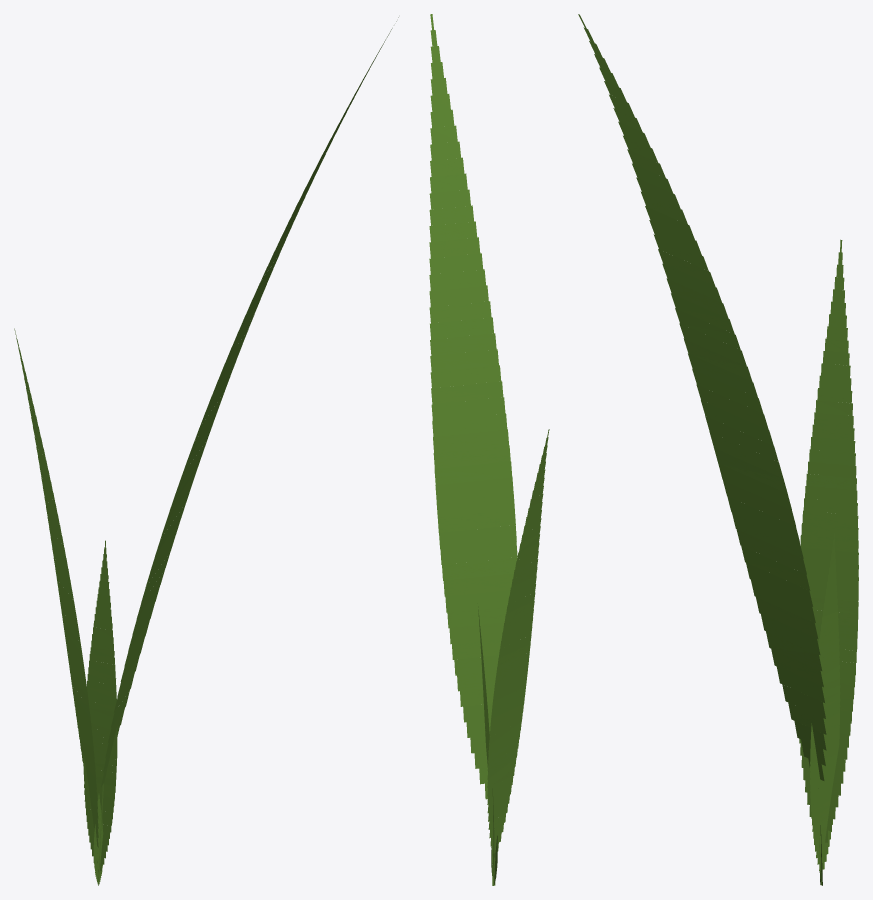
The model's file is maize_001_day_040.dae.
3 views of the same model, side by side, from view 1: azimuth 30°, elevation 25°; view 2: azimuth 150°, elevation 25°; view 3: azimuth 270°, elevation 25° (orthographic). The views are drawn at different scales.
Parts seen in each view (by area): view 1: node; view 2: node; view 3: node.
Boxes of the visible parts, x1,y1,x2,y2 form: node: (14, 17, 398, 885); node: (429, 14, 549, 885); node: (578, 14, 858, 885).
Size of the model in its own units: 0.0729 by 0.2398 by 0.063.
Materials: 1 (1 with a texture image).
